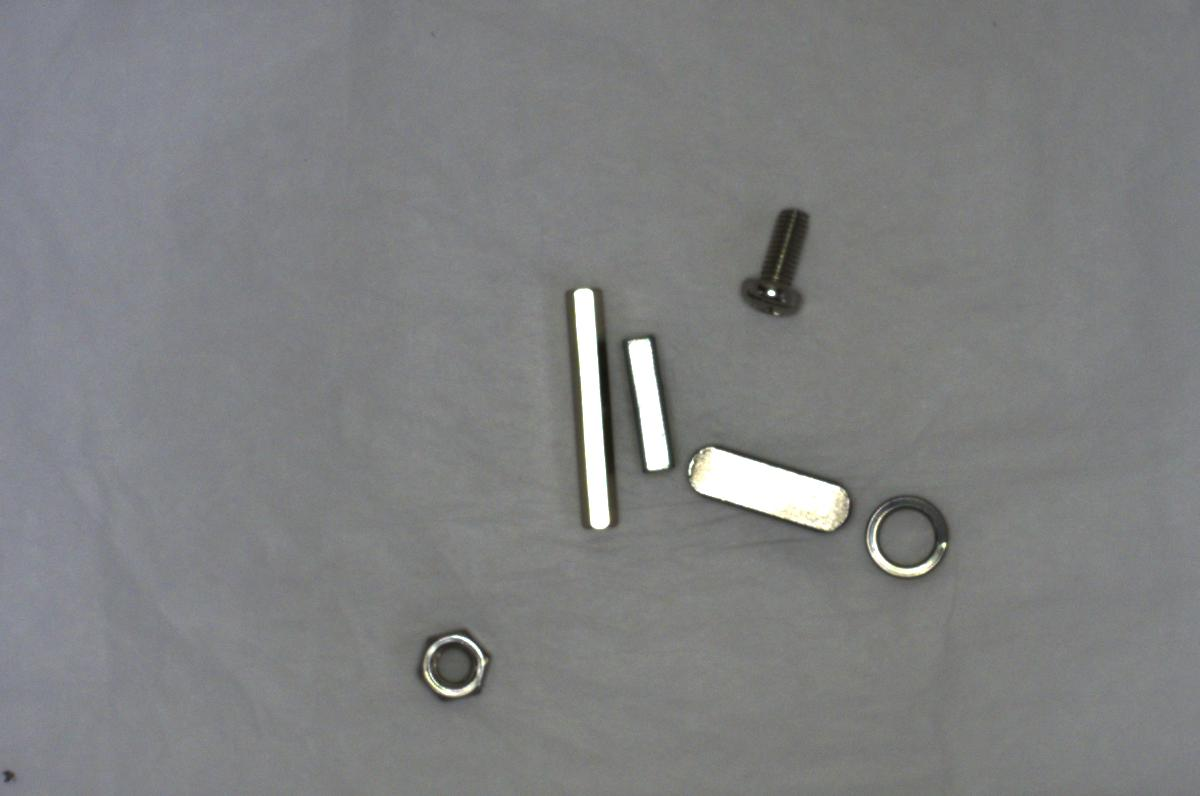Double hexagonal column: (555, 281, 632, 544)
Hexagon nut: (407, 623, 506, 710)
Keybar: (673, 431, 869, 537)
Rectangular nut: (625, 326, 676, 474)
Round head screw: (729, 199, 824, 330)
Spring washer: (847, 486, 951, 598)
